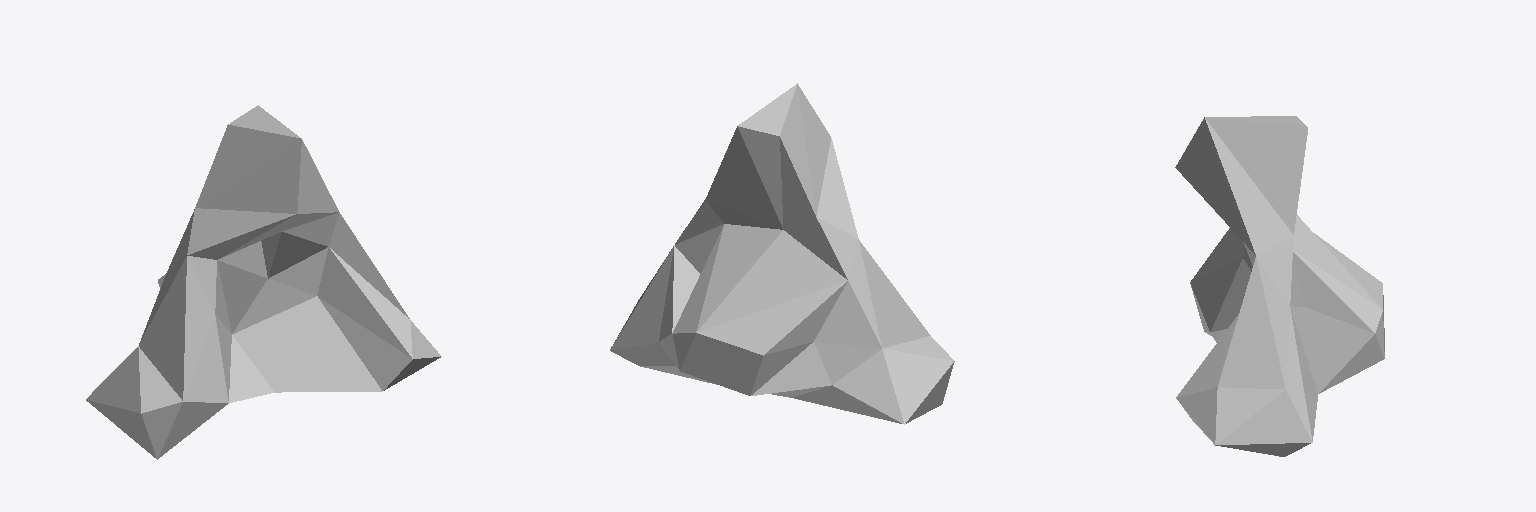
File: sim_ecub_1-0_l_wrist_2.obj
3 views of the same model, side by side, from view 1: azimuth 30°, elevation 25°; view 2: azimuth 150°, elevation 25°; view 3: azimuth 270°, elevation 25° (orthographic).
Bounding box in the file's own units: 33.77 × 30.01 × 19.94.